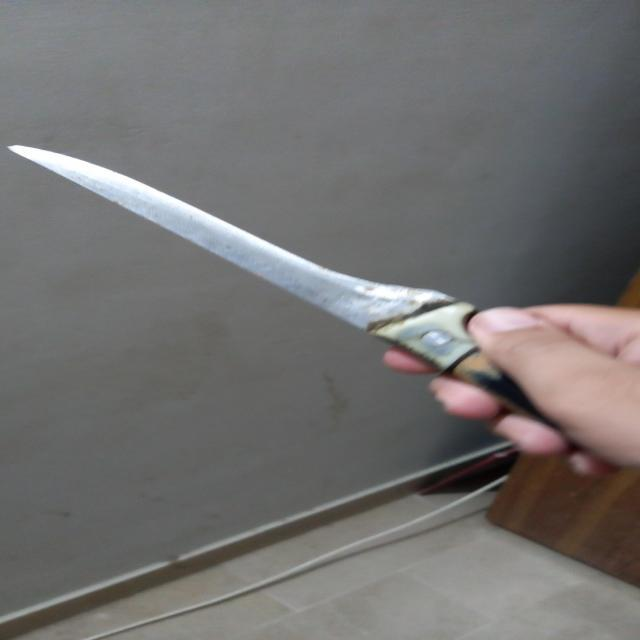Knife: (0, 140, 640, 466)
